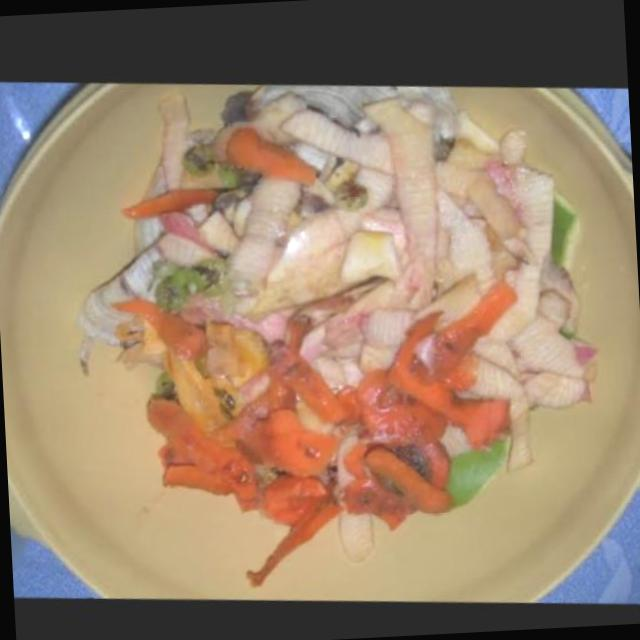vo_rau_cu: (385, 281, 518, 450), (486, 131, 579, 345), (363, 99, 436, 308), (147, 397, 259, 512), (246, 478, 343, 586), (459, 358, 531, 472), (226, 176, 301, 280), (277, 110, 393, 175), (236, 409, 345, 475), (507, 291, 583, 378), (112, 299, 207, 362), (365, 446, 453, 513), (224, 128, 315, 187), (341, 233, 400, 280), (120, 189, 219, 217), (363, 310, 413, 348)
